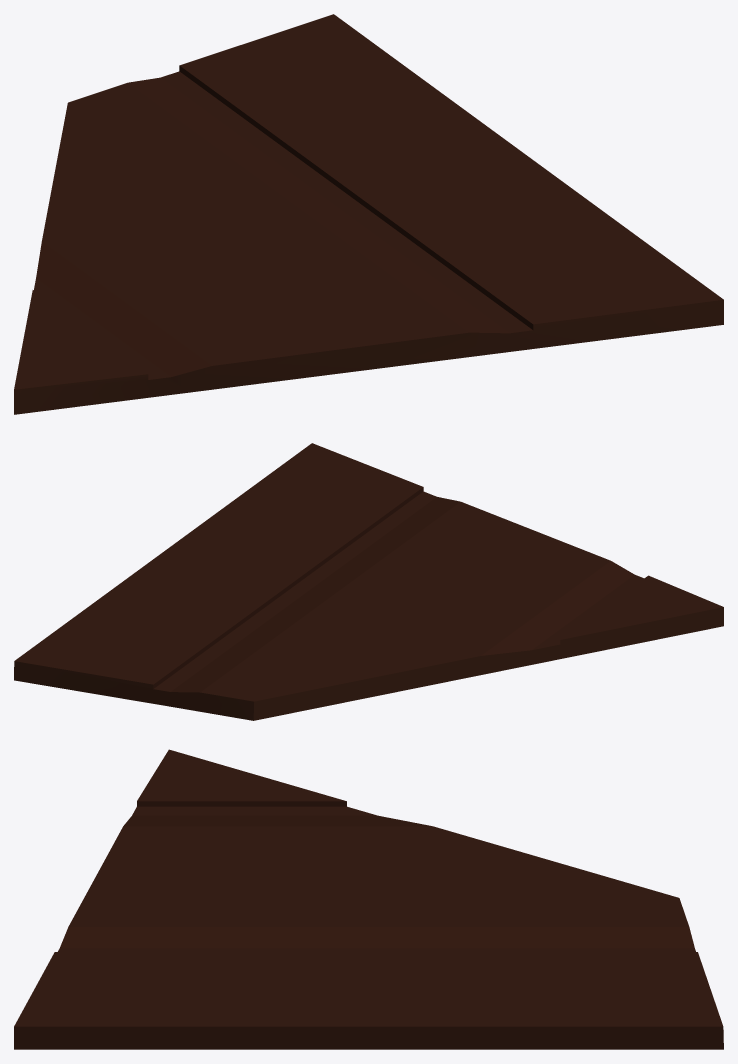
Rendered from Placard_Part_14.fbx.
3 renders of one model, top to bottom at view 1: azimuth 30°, elevation 25°; view 2: azimuth 150°, elevation 25°; view 3: azimuth 270°, elevation 25°, orthographic. The views are drawn at different scales.
Visible parts, largest first — view 1: Placard_Part_14; view 2: Placard_Part_14; view 3: Placard_Part_14.
Boxes of the visible parts, box(x1,y1,x2,y2) form: Placard_Part_14: box(14, 14, 723, 414); Placard_Part_14: box(14, 443, 723, 720); Placard_Part_14: box(14, 749, 723, 1049).
Size of the model in its own units: 71.09 by 2.73 by 76.95.
